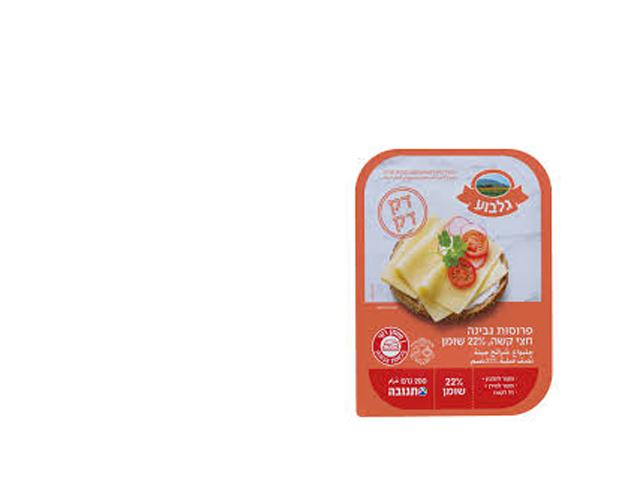cheese: (349, 141, 564, 432)
